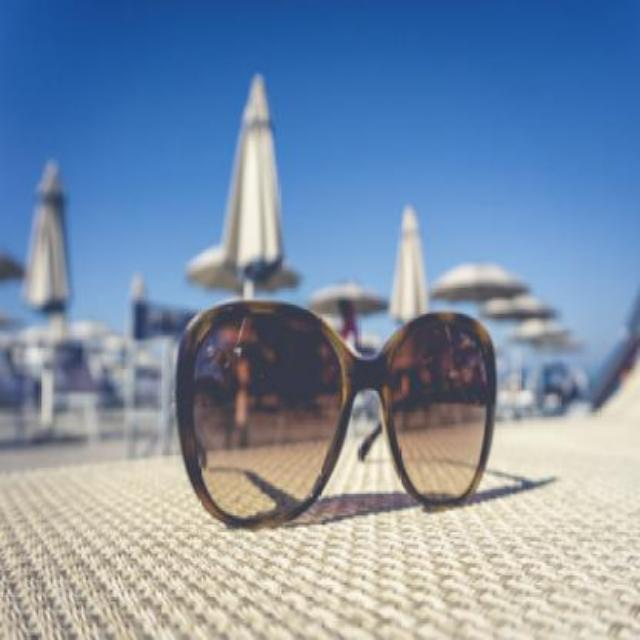sunglasses: (177, 300, 498, 528)
